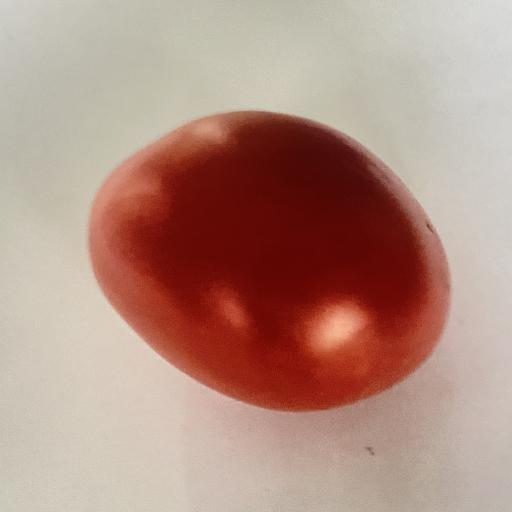ripe: (89, 111, 450, 411)
